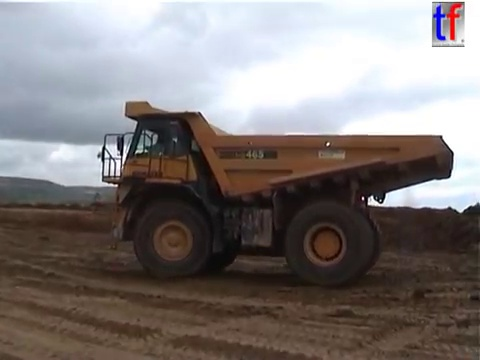truck: (95, 98, 456, 289)
